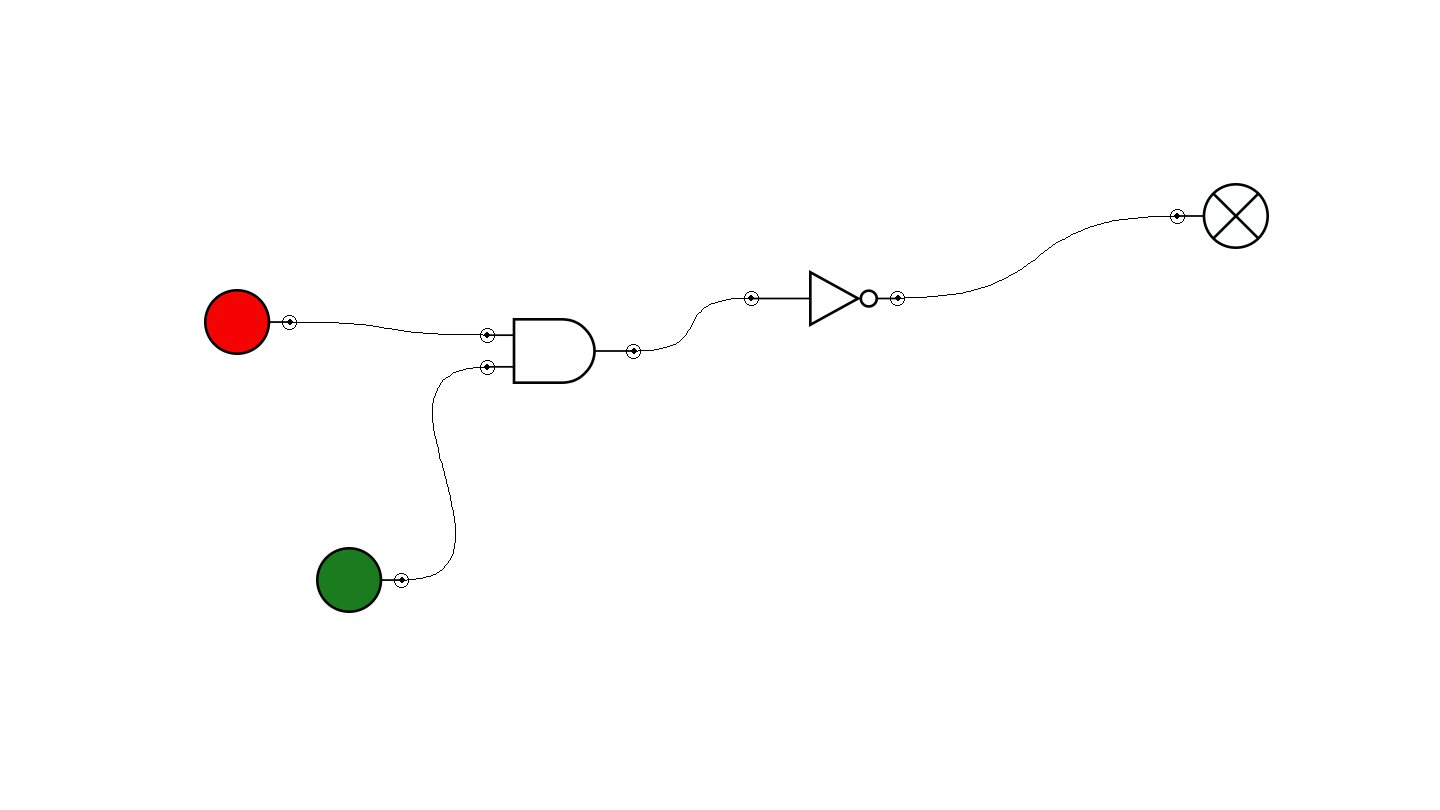and: (480, 318, 641, 384)
bulb: (1170, 183, 1269, 249)
not: (744, 270, 905, 327)
switch_False: (204, 289, 297, 355)
switch_True: (316, 547, 409, 613)
